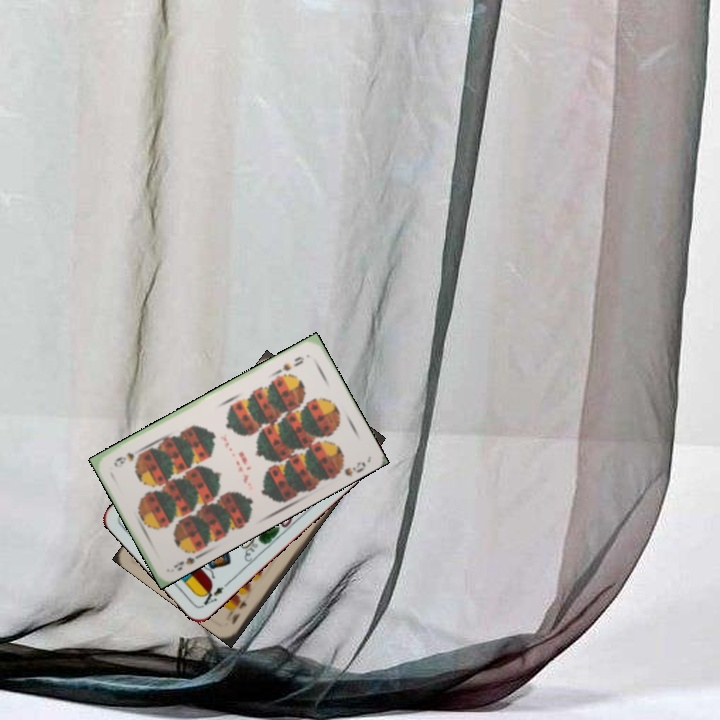E10: (227, 596, 249, 627)
EA: (196, 577, 232, 608)
S9: (169, 543, 205, 573), (273, 352, 307, 379)
